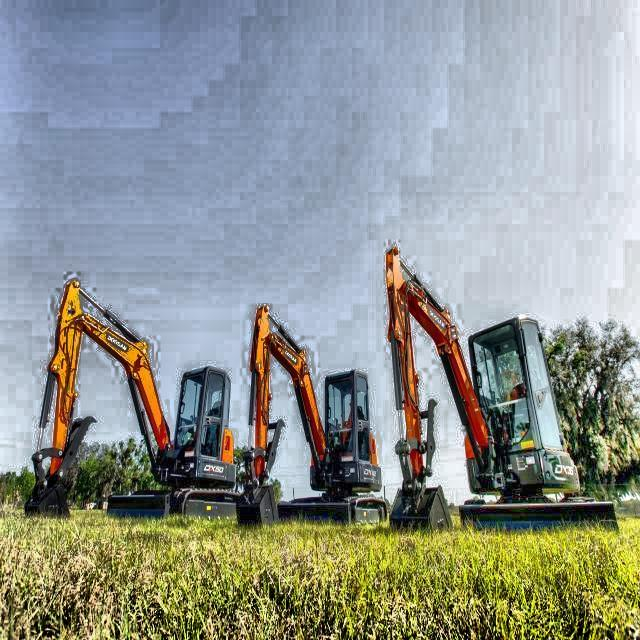excavator: (382, 245, 621, 533), (23, 276, 242, 522), (237, 307, 388, 533)
